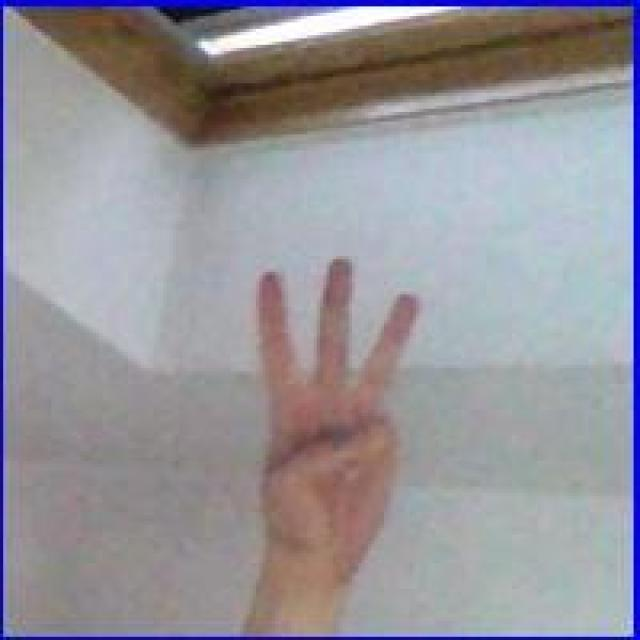W: (243, 250, 429, 576)
